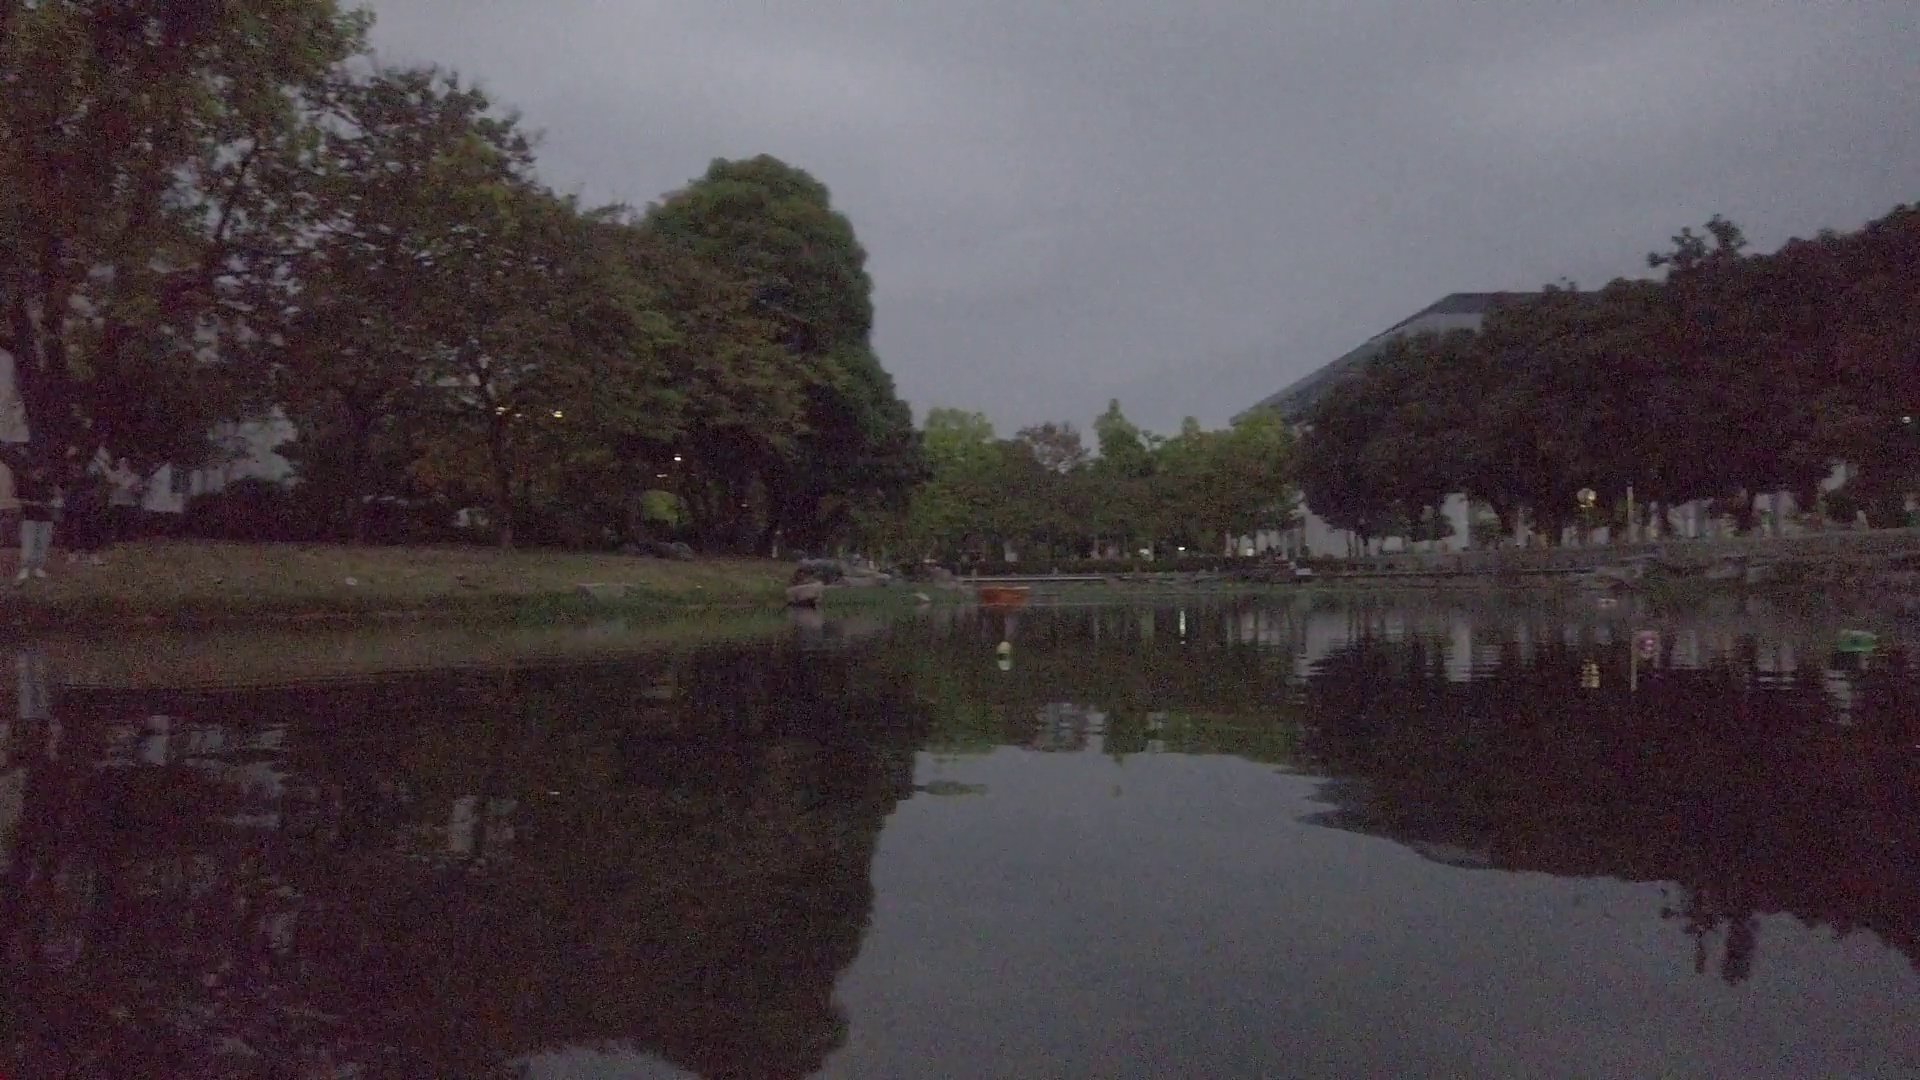bottle: (1840, 626, 1880, 647), (1635, 630, 1659, 655), (996, 636, 1011, 663), (1596, 597, 1617, 611)
